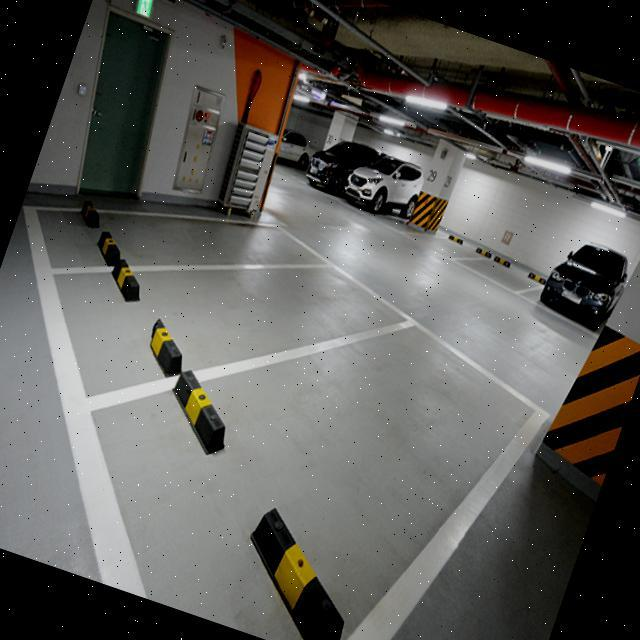Car: (536, 231, 636, 335), (341, 133, 432, 231), (302, 129, 384, 206)
Vacant: (73, 319, 543, 640), (44, 263, 412, 415), (31, 211, 330, 278), (466, 248, 541, 298), (409, 219, 482, 266)
